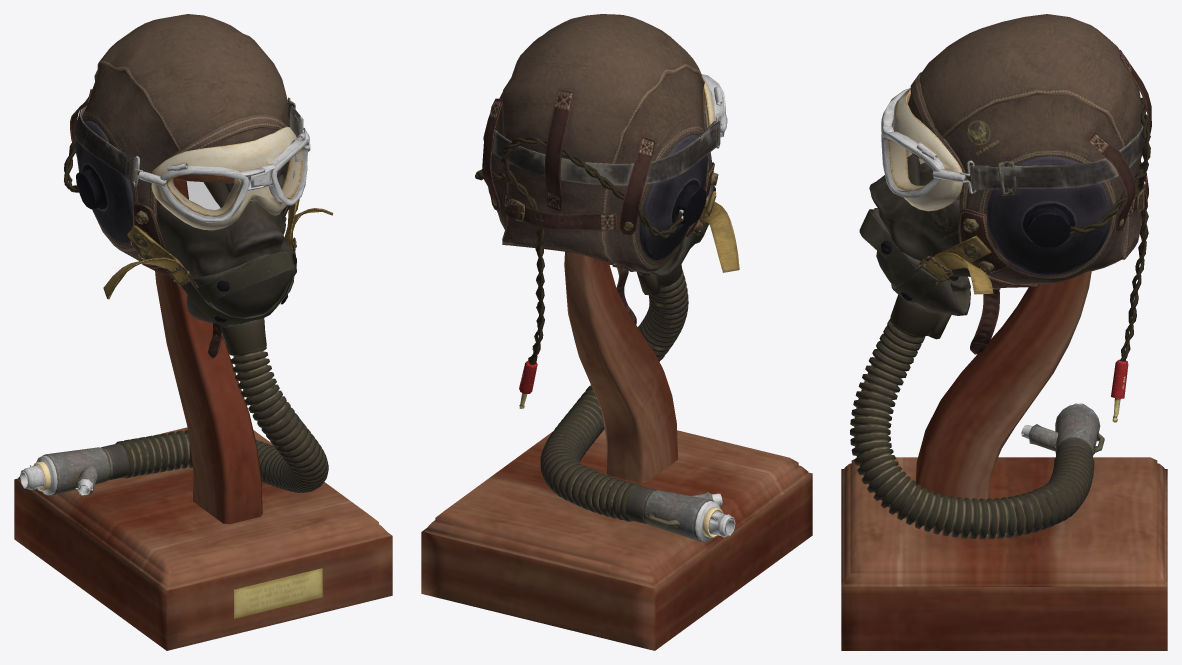
Rendered from flight-helmet-mobile.glb.
3 views of the same model, side by side, from view 1: azimuth 30°, elevation 25°; view 2: azimuth 150°, elevation 25°; view 3: azimuth 270°, elevation 25° (orthographic). The views are drawn at different scales.
Parts seen in each view (by area): view 1: RubberWood_low, LeatherParts_low, MetalParts_low, GlassPlastic_low, Hose_low, Lenses_low; view 2: RubberWood_low, LeatherParts_low, Hose_low, MetalParts_low, GlassPlastic_low; view 3: RubberWood_low, LeatherParts_low, Hose_low, GlassPlastic_low, MetalParts_low, Lenses_low.
Part boxes in pixels (box(x1,y1,x2,y2)): RubberWood_low: box(14, 100, 392, 650); LeatherParts_low: box(70, 14, 290, 358); MetalParts_low: box(20, 97, 322, 618); GlassPlastic_low: box(75, 120, 303, 244); Hose_low: box(115, 347, 328, 492); Lenses_low: box(165, 144, 307, 218); RubberWood_low: box(421, 114, 812, 650); LeatherParts_low: box(482, 14, 714, 324); Hose_low: box(540, 270, 688, 521); MetalParts_low: box(492, 74, 735, 541); GlassPlastic_low: box(488, 77, 715, 260); RubberWood_low: box(841, 97, 1167, 650); LeatherParts_low: box(908, 14, 1151, 354); Hose_low: box(850, 318, 1094, 539); GlassPlastic_low: box(888, 88, 1111, 275); MetalParts_low: box(881, 88, 1145, 456); Lenses_low: box(883, 138, 933, 192).
Size of the model in its own units: 0.3665 by 0.716 by 0.3716.
Materials: 6 (6 with a texture image).
